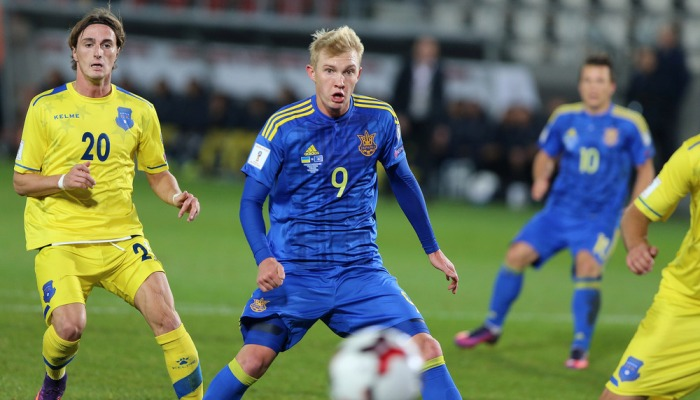ball: (327, 327, 424, 399)
player: (203, 26, 463, 400), (13, 9, 206, 400), (453, 55, 657, 371), (599, 131, 700, 400)
